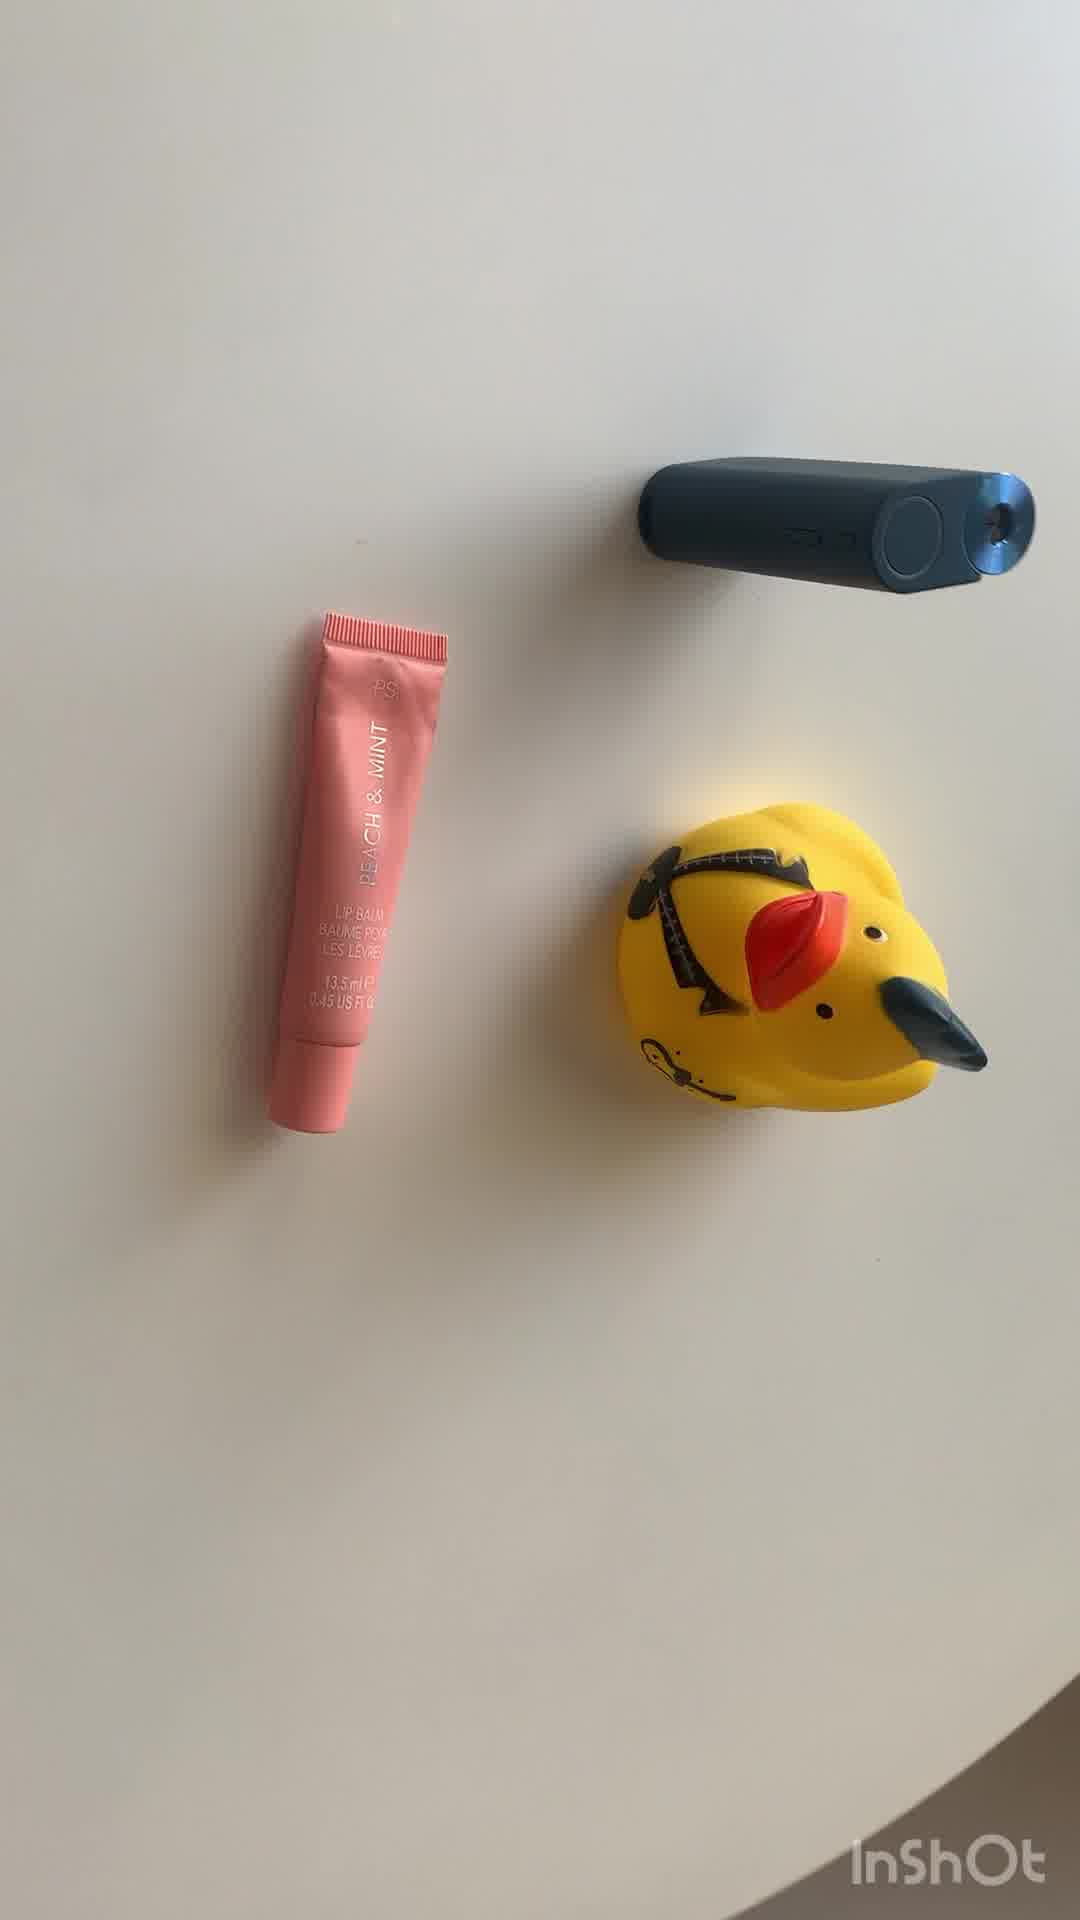duck: (613, 798, 996, 1118)
glo: (636, 446, 1039, 600)
lip balm: (269, 613, 446, 1153)
